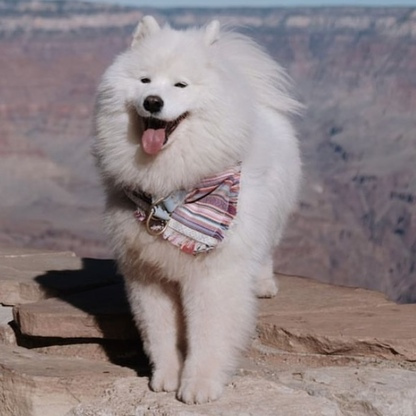samoyed: (86, 12, 306, 406)
